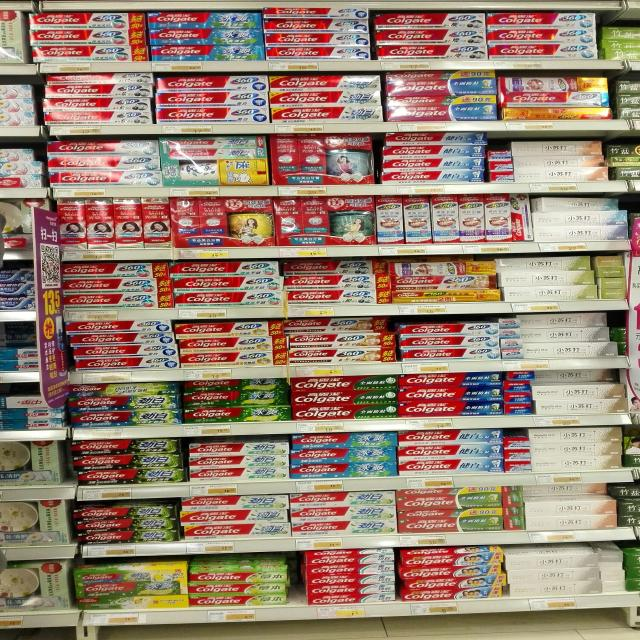unorganised: (398, 548, 506, 600), (523, 311, 624, 354), (501, 256, 596, 286), (180, 381, 287, 405), (499, 70, 615, 91), (387, 256, 499, 275), (282, 316, 392, 334), (279, 258, 387, 276), (507, 370, 623, 385), (524, 485, 617, 502), (509, 191, 535, 241), (535, 196, 626, 209)
